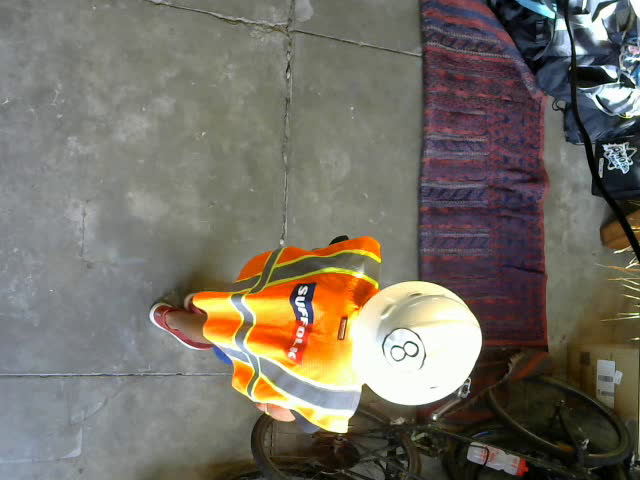eight: (382, 327, 426, 373)
